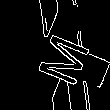M_W: (23, 24, 87, 86)
